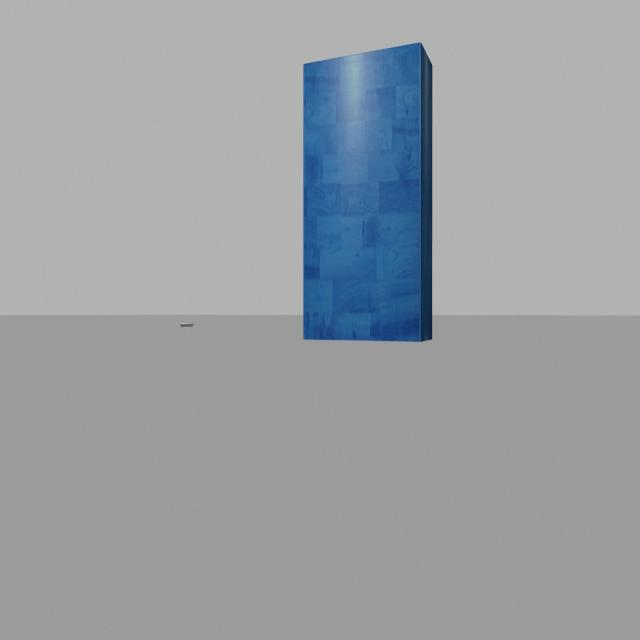bowl: (175, 318, 200, 336)
shelf: (295, 30, 441, 360)
